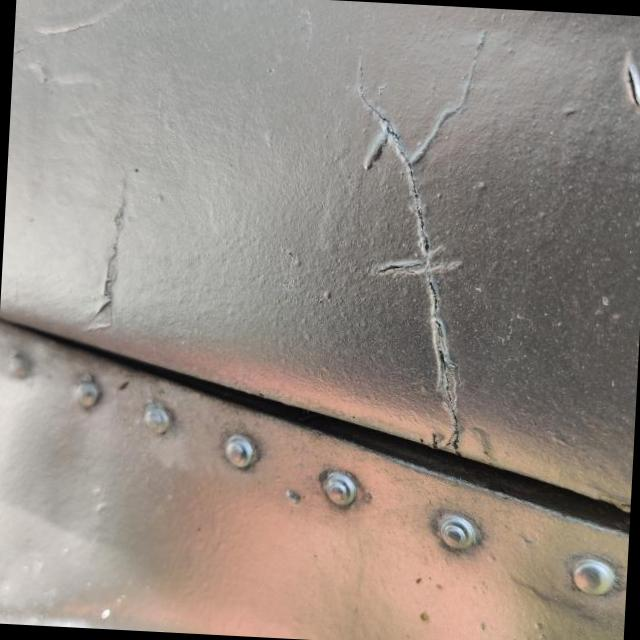Crack: (357, 31, 486, 454)
